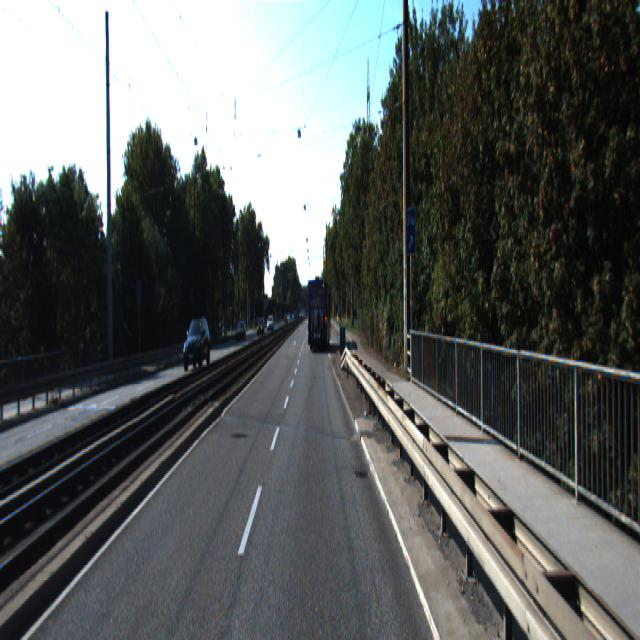Car: (308, 275, 333, 348), (182, 314, 212, 370)
